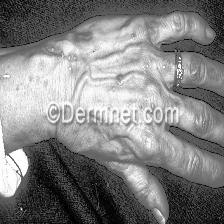Benign Marking or Mole: (68, 51, 76, 73), (115, 74, 125, 86), (60, 49, 64, 59)
